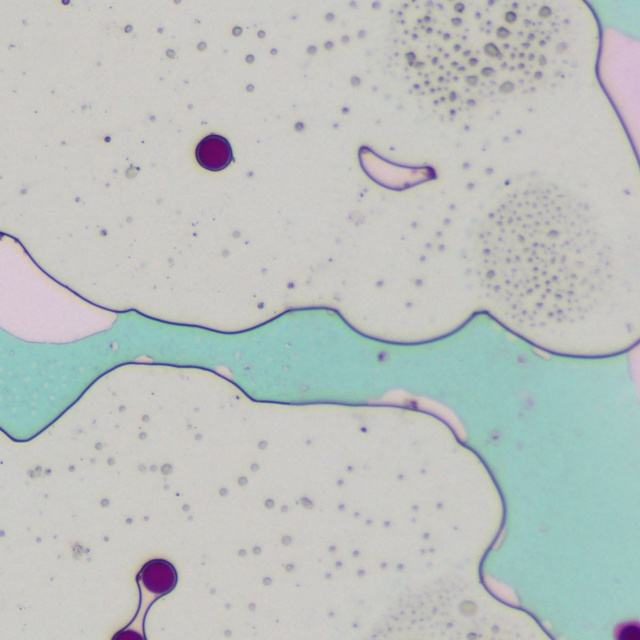viable: (112, 560, 177, 639), (196, 135, 232, 171), (139, 560, 177, 593), (615, 622, 639, 639), (113, 630, 143, 639)
